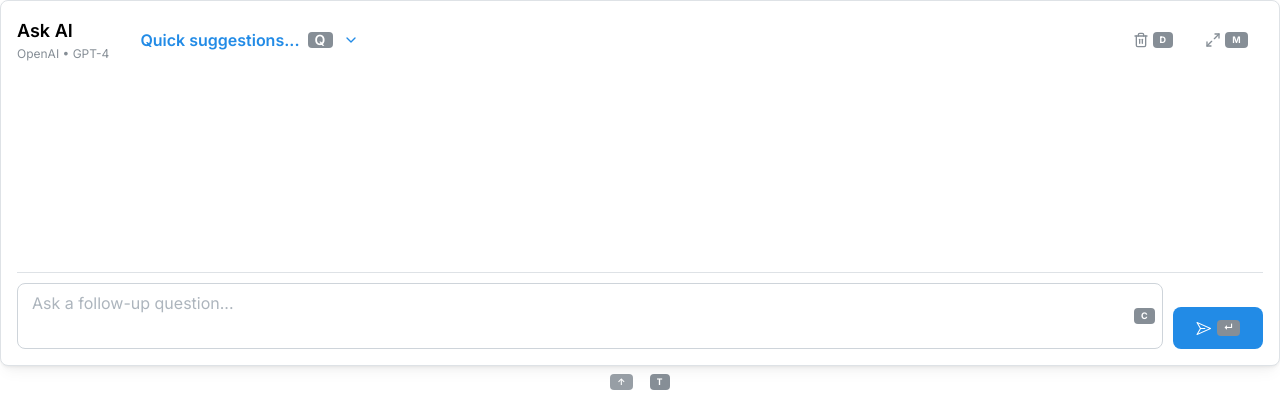
Test: Chat Component › shows quick suggestions dropdown when button is clicked
This screenshot has width=1280, height=413.
What coordinates should you click on to do the following:
click the button "Quick suggestions... Q"
I would click on:
 (247, 40)
Its box is [125,25,369,55].
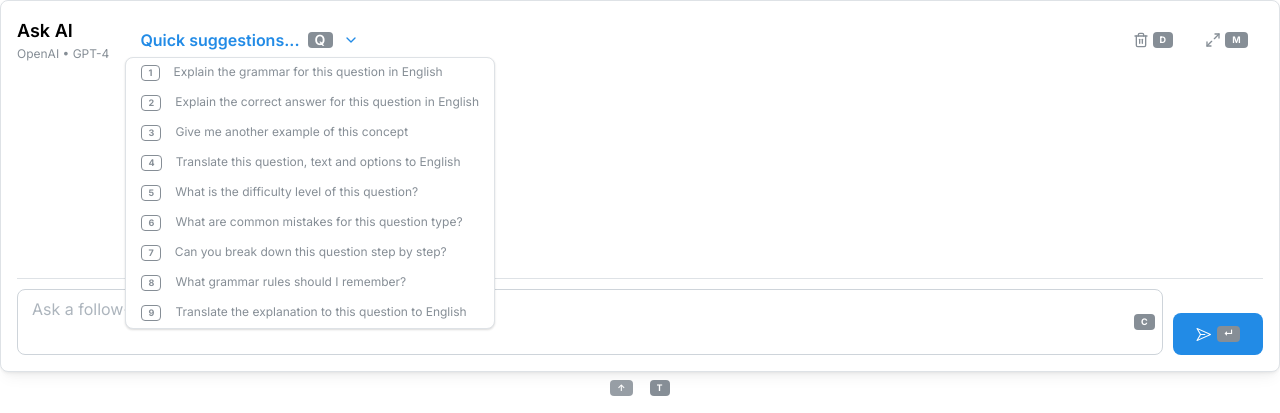
Result: the text "Explain the grammar for this question in English" is shown at [174,64,479,81]
Result: the text "Explain the correct answer for this question in English" is shown at [175,94,479,111]
